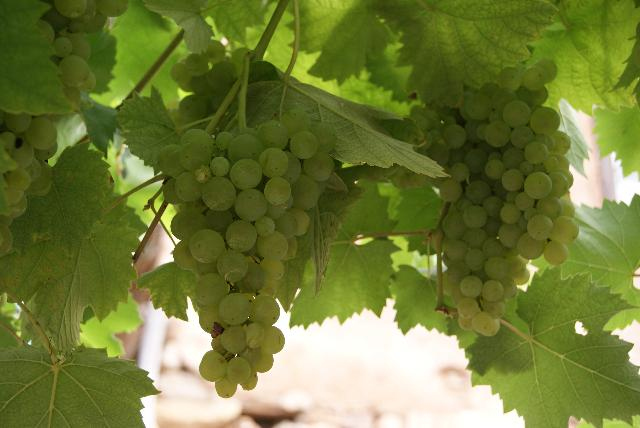grapes: (165, 109, 338, 391), (464, 59, 579, 264), (429, 120, 518, 336)
